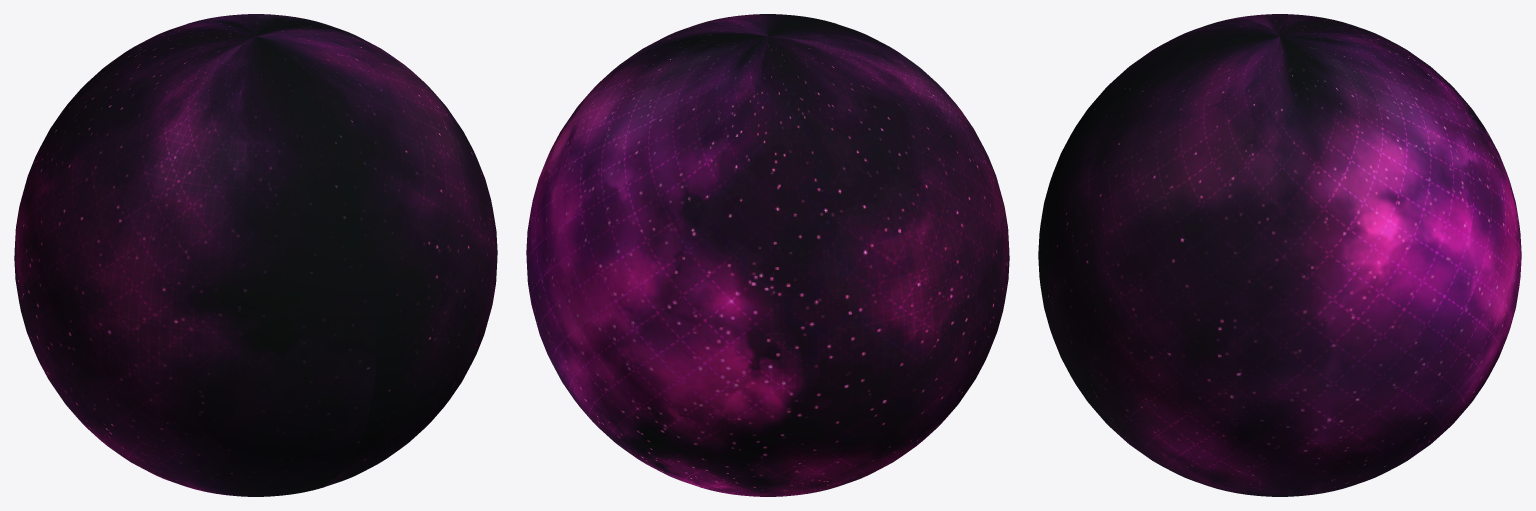
Rendered from Windmill.glb.
The picture shows the model from 3 angles, left to right: view 1: azimuth 30°, elevation 25°; view 2: azimuth 150°, elevation 25°; view 3: azimuth 270°, elevation 25°; orthographic projection.
Visible parts, largest first — view 1: Sphere; view 2: Sphere; view 3: Sphere.
Boxes of the visible parts, bbox=[...] form: Sphere: bbox=[14, 14, 497, 496]; Sphere: bbox=[526, 14, 1009, 496]; Sphere: bbox=[1038, 14, 1521, 496].
Bounding box in the file's own units: 480 × 480 × 480.
Materials: 17 (17 with a texture image).
